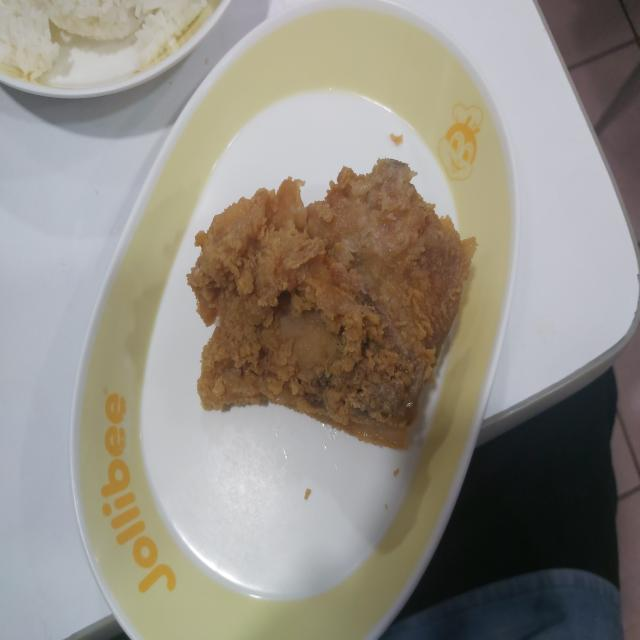Chicken -Fried Chicken-: (178, 144, 482, 467)
